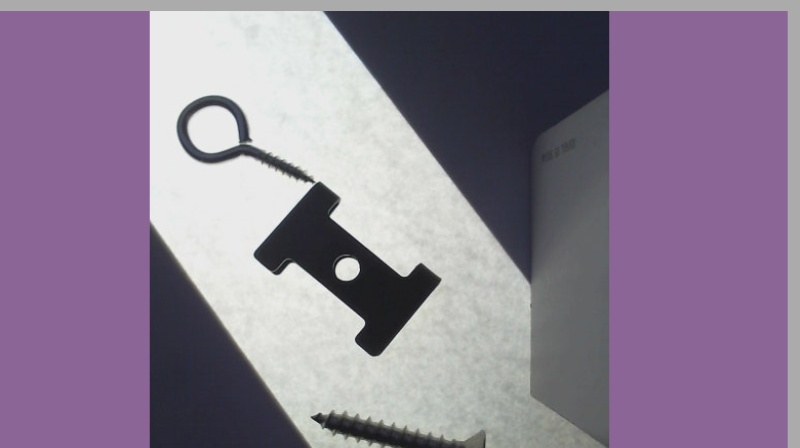O001: (176, 94, 318, 185)
O002: (254, 183, 441, 356)
S001: (310, 409, 486, 447)
